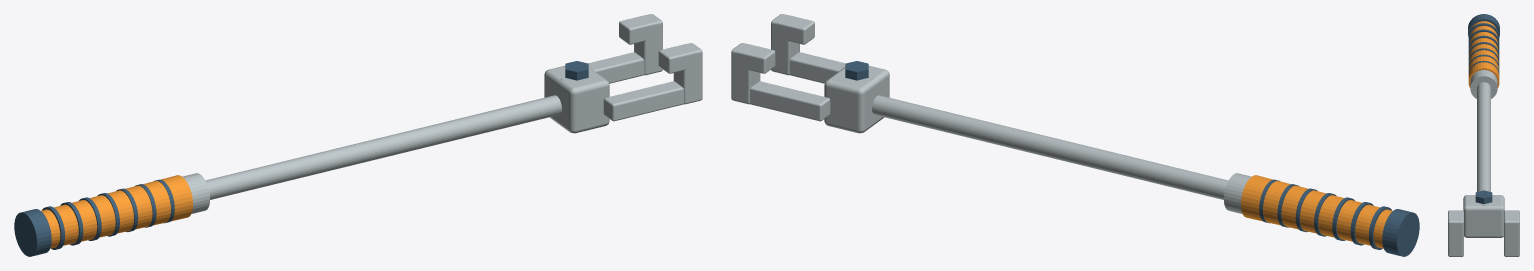
File: container-inspection-and-customs-yard-container-inspec-a4f835d8__29281.glb
3 views of the same model, side by side, from view 1: azimuth 30°, elevation 25°; view 2: azimuth 150°, elevation 25°; view 3: azimuth 270°, elevation 25° (orthographic). The views are drawn at different scales.
Parts seen in each view (by area): view 1: container-inspection-and-customs-yard-container-opening-tool (×3); view 2: container-inspection-and-customs-yard-container-opening-tool (×3); view 3: container-inspection-and-customs-yard-container-opening-tool (×3).
Part boxes in pixels (x1,y1,x2,y2): container-inspection-and-customs-yard-container-opening-tool (×3): (14, 14, 702, 256); container-inspection-and-customs-yard-container-opening-tool (×3): (731, 14, 1419, 256); container-inspection-and-customs-yard-container-opening-tool (×3): (1448, 14, 1519, 256).
Bounding box in the file's own units: 0.8925 × 0.085 × 0.121.
